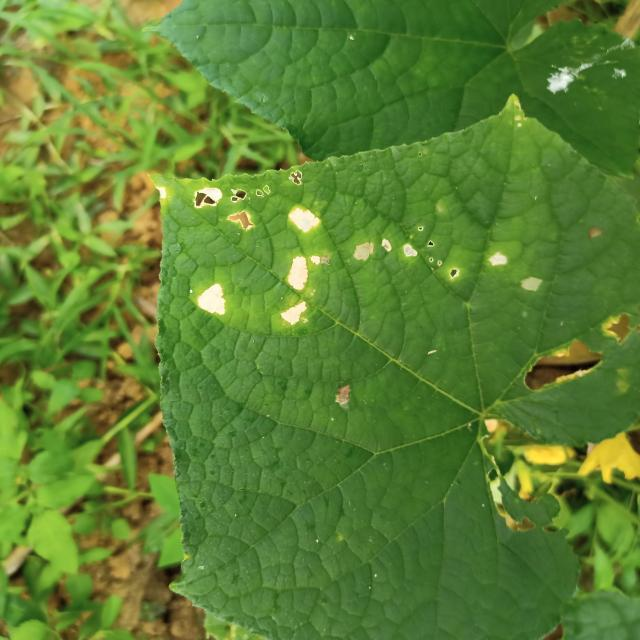disease_cucumber: (162, 172, 377, 346), (380, 198, 568, 315)
